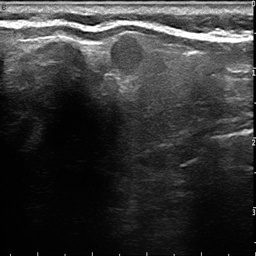mass: (112, 34, 142, 73)
